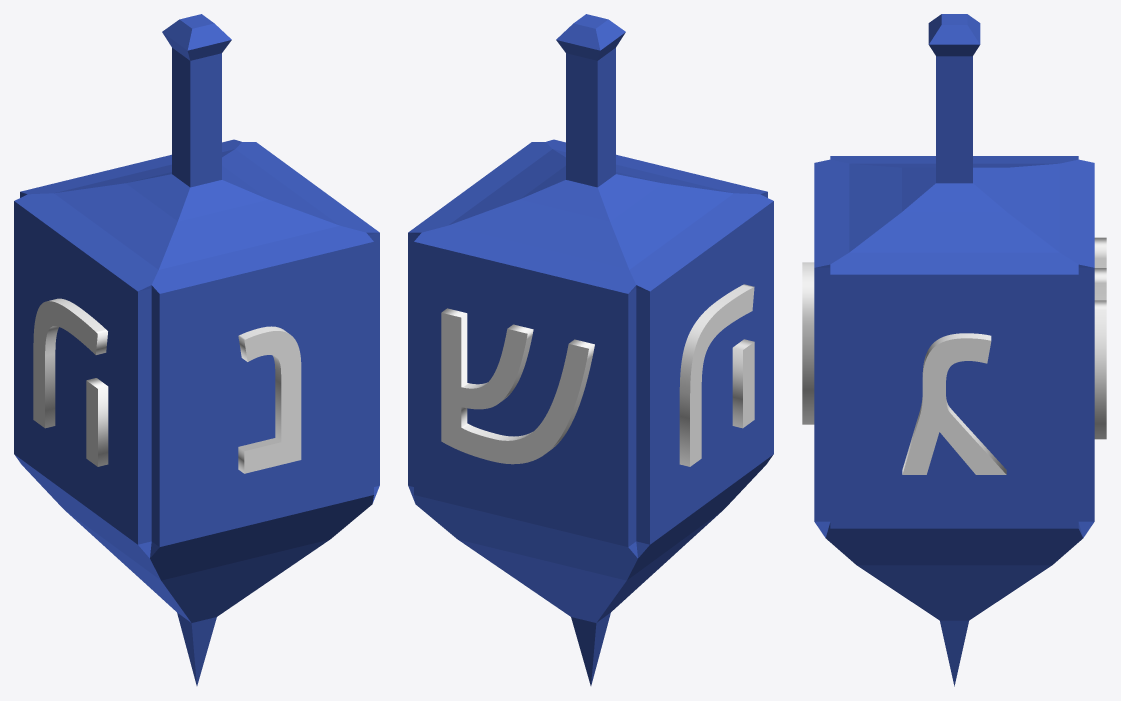
Rendered from Dreidel_Rubber.glb.
3 views of the same model, side by side, from view 1: azimuth 30°, elevation 25°; view 2: azimuth 150°, elevation 25°; view 3: azimuth 270°, elevation 25° (orthographic).
Visible parts, largest first — view 1: Dreidel_Rubber, Dreidel_Rubber_Letter_ה, Dreidel_Rubber_Letter_נ; view 2: Dreidel_Rubber, Dreidel_Rubber_Letter_ש, Dreidel_Rubber_Letter_ה; view 3: Dreidel_Rubber, Dreidel_Rubber_Letter_ג, Dreidel_Rubber_Letter_ש, Dreidel_Rubber_Letter_נ.
Part boxes in pixels (x1=…): Dreidel_Rubber: x1=14, y1=14, x2=379, y2=685; Dreidel_Rubber_Letter_ה: x1=33, y1=298, x2=108, y2=466; Dreidel_Rubber_Letter_נ: x1=238, y1=326, x2=301, y2=473; Dreidel_Rubber: x1=408, y1=14, x2=773, y2=685; Dreidel_Rubber_Letter_ש: x1=441, y1=308, x2=594, y2=464; Dreidel_Rubber_Letter_ה: x1=679, y1=284, x2=754, y2=466; Dreidel_Rubber: x1=814, y1=14, x2=1094, y2=686; Dreidel_Rubber_Letter_ג: x1=902, y1=333, x2=1006, y2=474; Dreidel_Rubber_Letter_ש: x1=1094, y1=237, x2=1106, y2=439; Dreidel_Rubber_Letter_נ: x1=802, y1=262, x2=814, y2=424.
Size of the model in its own units: 2.28 by 5.52 by 2.28.
